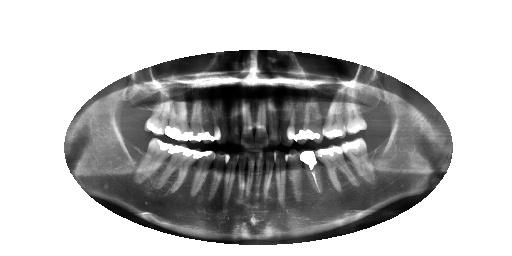Cavity: (191, 150, 216, 199)
Fillings: (162, 143, 200, 199), (316, 146, 357, 196), (137, 138, 175, 189), (295, 98, 323, 144), (323, 91, 348, 139), (165, 96, 192, 140), (143, 96, 171, 135), (190, 97, 204, 143), (203, 101, 216, 143)
Implant: (299, 147, 325, 200)
